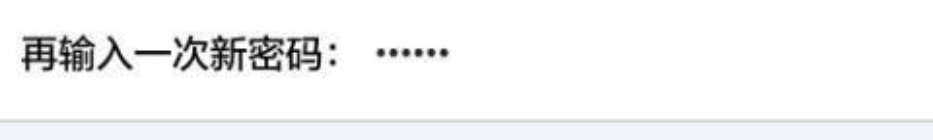EditText: (1, 1, 932, 139)
